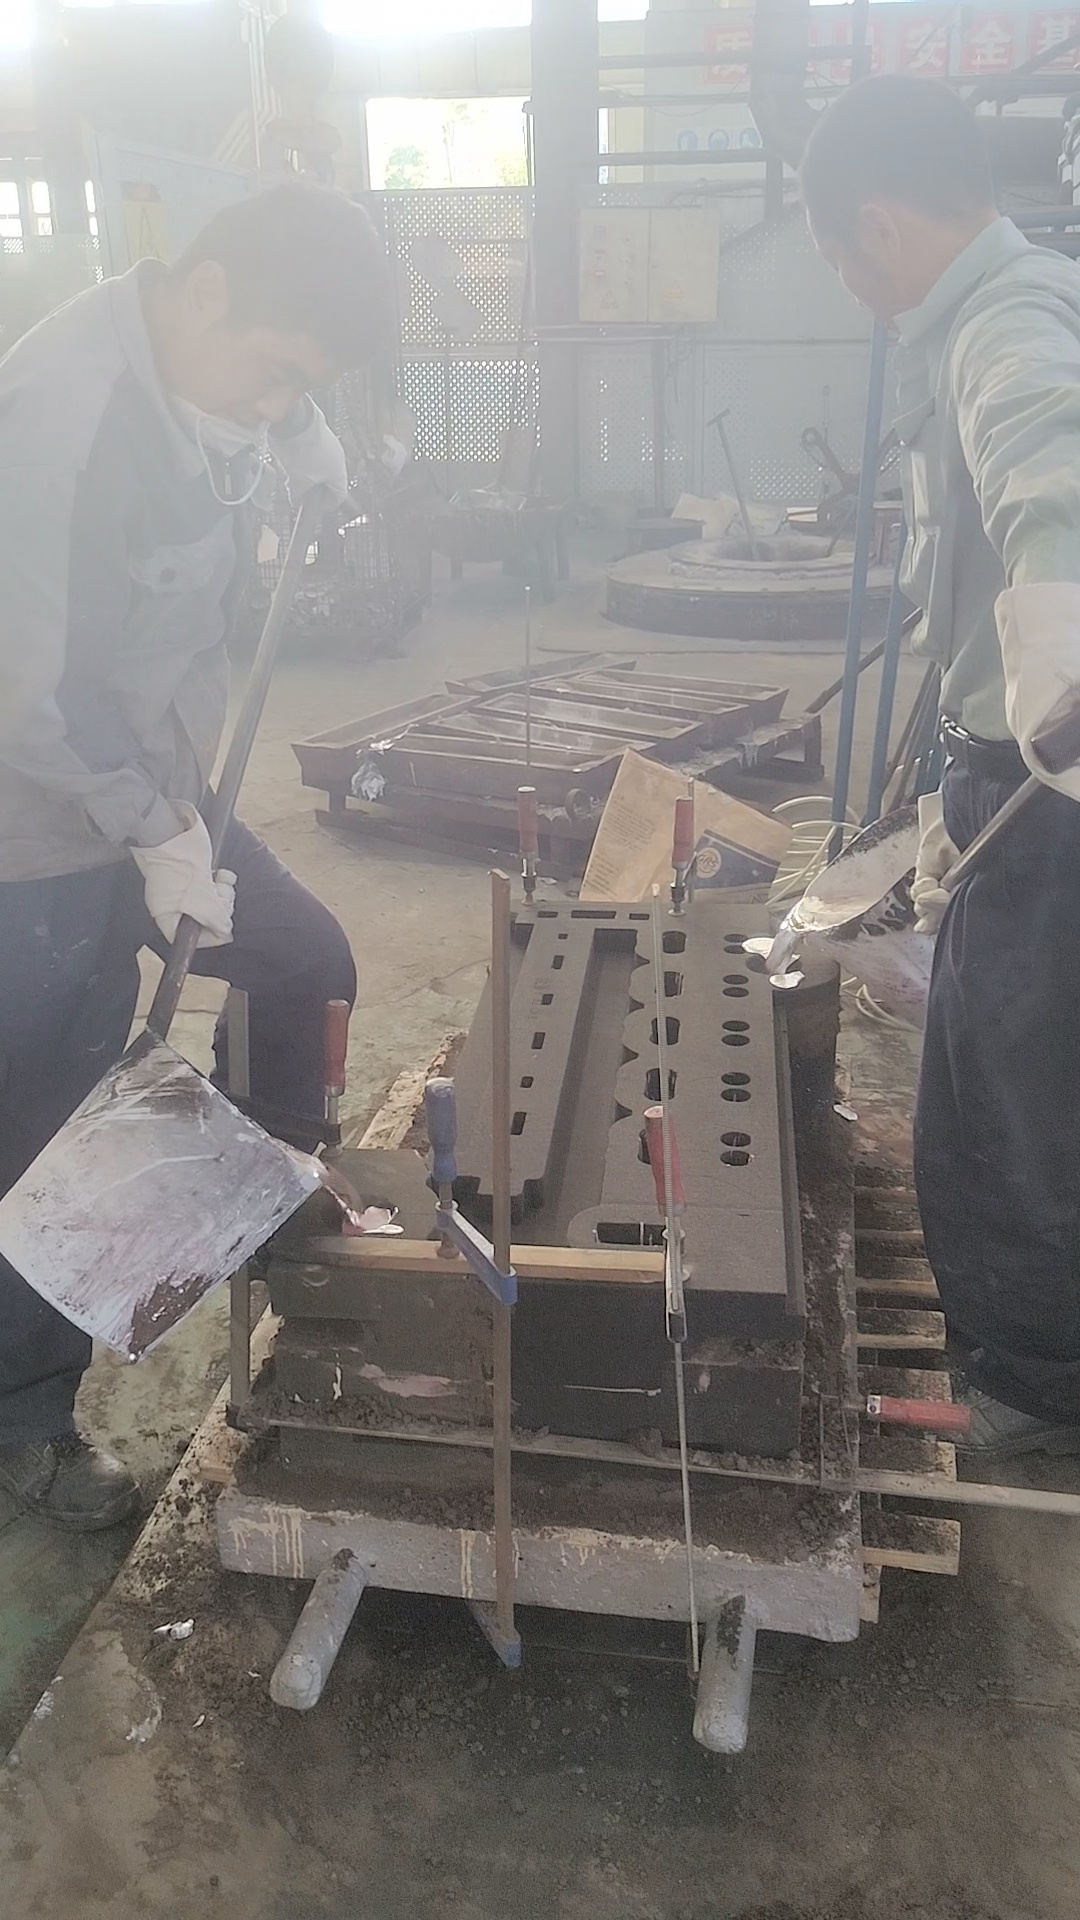pouring hole: (319, 1191, 401, 1234), (746, 953, 804, 978)
